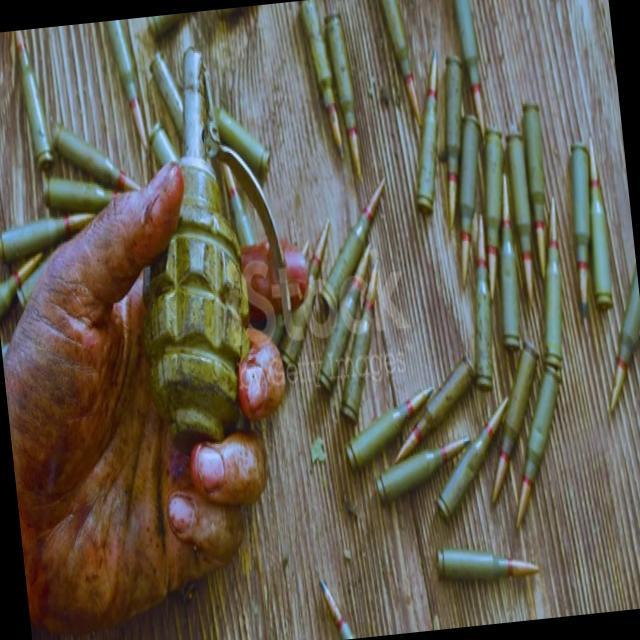grenade: (107, 38, 266, 450)
